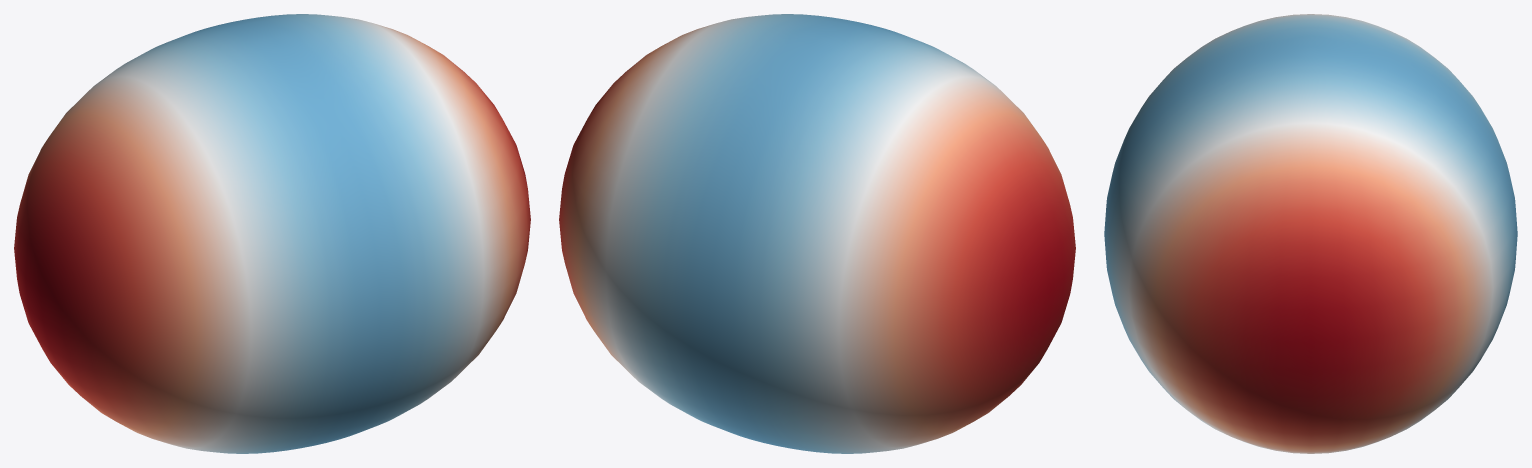
Rendered from modeP2.glb.
The picture shows the model from 3 angles, left to right: view 1: azimuth 30°, elevation 25°; view 2: azimuth 150°, elevation 25°; view 3: azimuth 270°, elevation 25°; orthographic projection. The views are drawn at different scales.
Parts seen in each view (by area): view 1: frame000; view 2: frame000; view 3: frame000.
Part boxes in pixels (x1,y1,x2,y2): frame000: (14,14,530,453); frame000: (559,14,1075,453); frame000: (1104,14,1517,453).
Size of what is drawn, in the model's own units: 0.138 by 0.111 by 0.111.
1 material, 1 textured.
